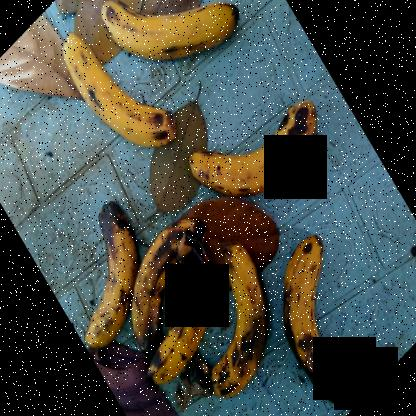overripe: (190, 84, 328, 197)
ripe: (54, 24, 179, 164), (96, 0, 256, 66)
rotten: (275, 228, 374, 415), (213, 236, 275, 415), (78, 189, 137, 376), (145, 224, 211, 388)
